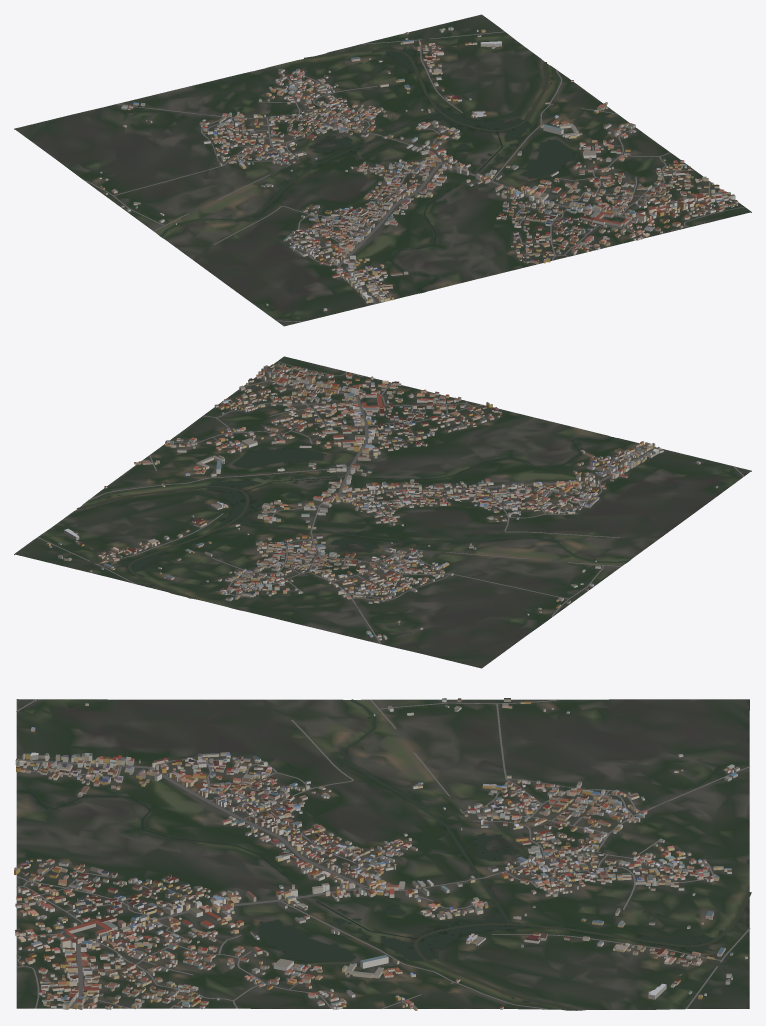
3 views of the same model, one above another, from view 1: azimuth 30°, elevation 25°; view 2: azimuth 150°, elevation 25°; view 3: azimuth 270°, elevation 25° (orthographic). The views are drawn at different scales.
Parts seen in each view (by area): view 1: ground, buildings, water, roads; view 2: ground, buildings, water, roads; view 3: ground, buildings, water, roads.
Boxes of the visible parts, x1,y1,x2,y2 form: ground: (14,14,751,326); buildings: (99,26,738,311); water: (160,47,576,292); roads: (85,31,744,321); ground: (14,356,751,668); buildings: (46,363,718,640); water: (77,437,628,609); roads: (37,361,744,644); ground: (16,699,749,1010); buildings: (14,698,747,1010); water: (16,699,751,1010); roads: (16,699,750,1009).
Bounding box in the file's own units: 1412 × 25.53 × 1411.
